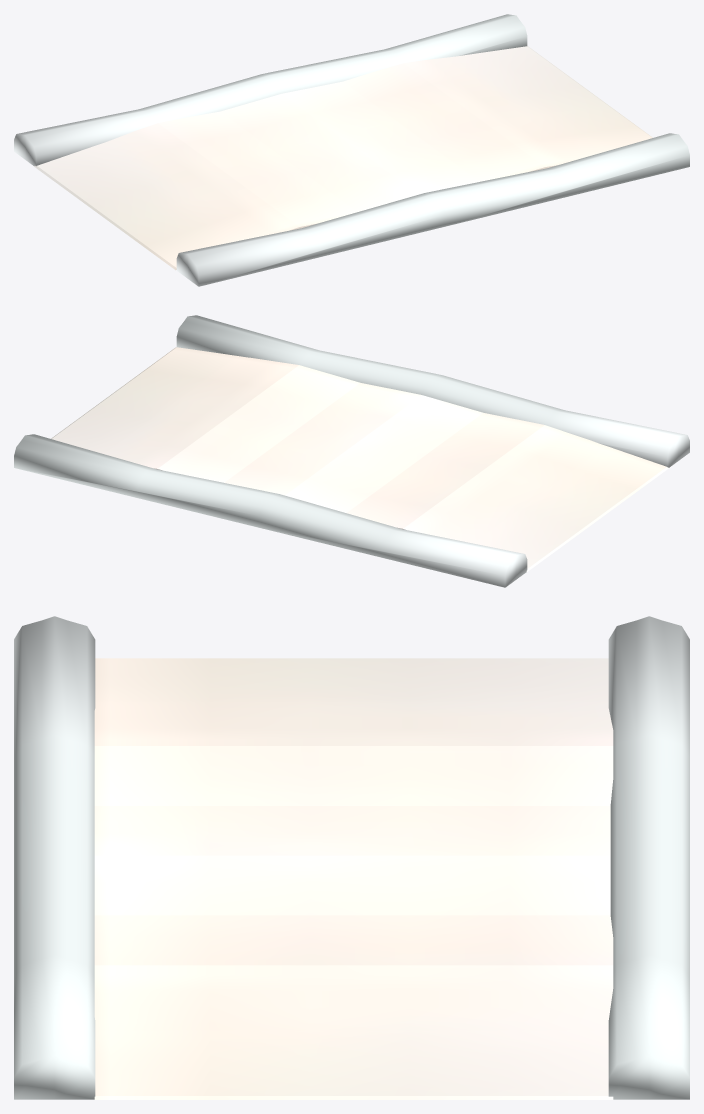
Rendered from SnowmobileTrackWithBarriers.glb.
The picture shows the model from 3 angles, top to bottom: view 1: azimuth 30°, elevation 25°; view 2: azimuth 150°, elevation 25°; view 3: azimuth 270°, elevation 25°; orthographic projection. The views are drawn at different scales.
Parts seen in each view (by area): view 1: SnowmobileTrackWithBarriers; view 2: SnowmobileTrackWithBarriers; view 3: SnowmobileTrackWithBarriers.
Boxes of the visible parts, bbox=[...] form: SnowmobileTrackWithBarriers: bbox=[14, 14, 689, 286]; SnowmobileTrackWithBarriers: bbox=[14, 315, 689, 587]; SnowmobileTrackWithBarriers: bbox=[14, 616, 689, 1099].
Bounding box in the file's own units: 8.04 × 0.3824 × 5.21.
1 material, 1 textured.
